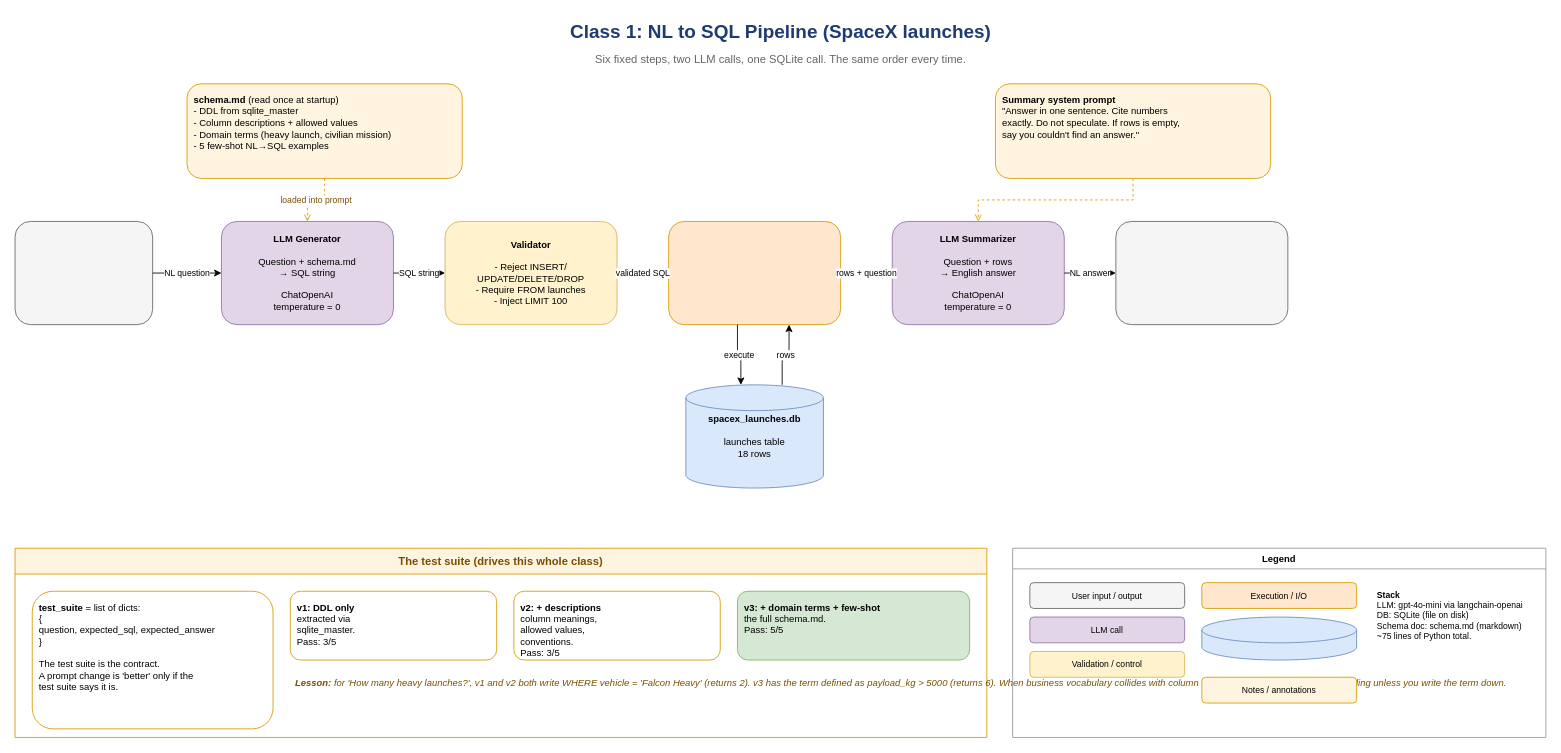
This 1561x753 diagram has some shape labels left out. Here are the shapes that lost their labels. From the top down, the centre of each, then its label:
(x=83, y=273): User "How many heavy launches have we flown?"
(x=754, y=273): SQLite Executor sqlite3.connect(DB) .execute(sql) .fetchall()
(x=1201, y=273): User receives answer "We have flown 6 heavy launches (payload > 5,000 kg)."
(x=1279, y=638): Database (cylinder)
